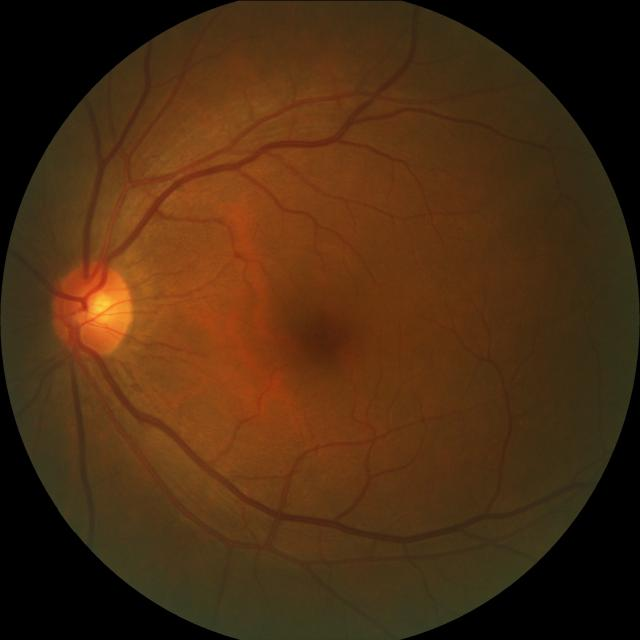OC: (75, 286, 112, 327)
OD: (55, 263, 132, 354)
